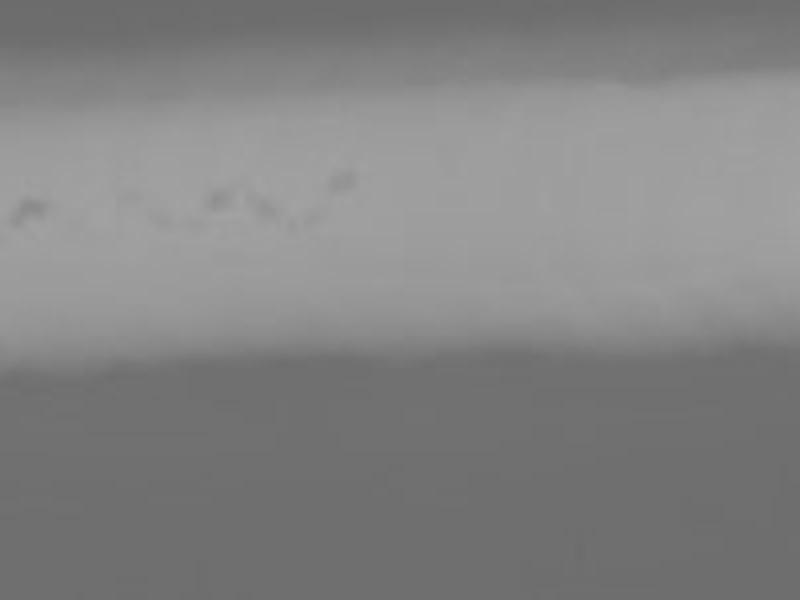defect: (9, 197, 40, 228), (250, 195, 280, 225), (205, 183, 234, 212), (327, 167, 353, 193), (182, 211, 205, 234), (300, 207, 321, 228), (151, 203, 171, 223), (280, 214, 295, 229)
